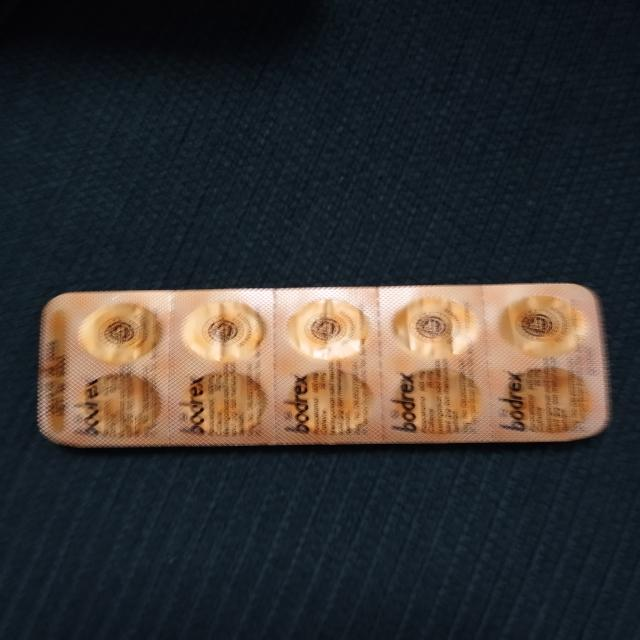B3: (41, 283, 607, 444)
